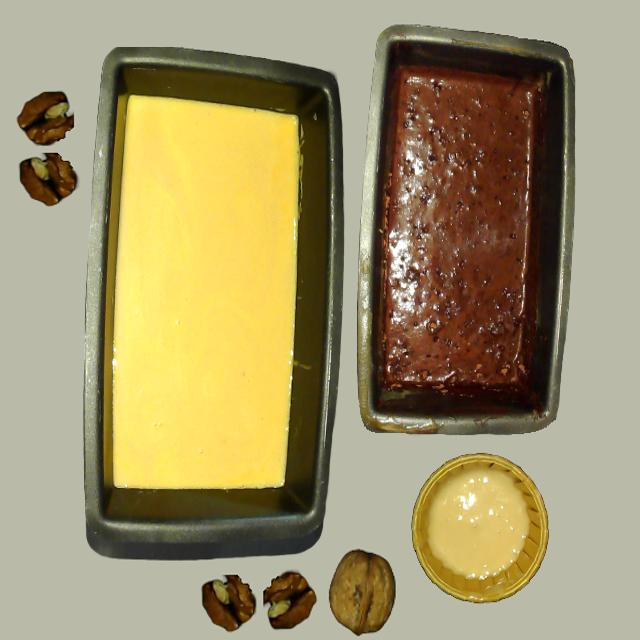Walnut: (329, 543, 404, 640), (193, 565, 260, 638)
